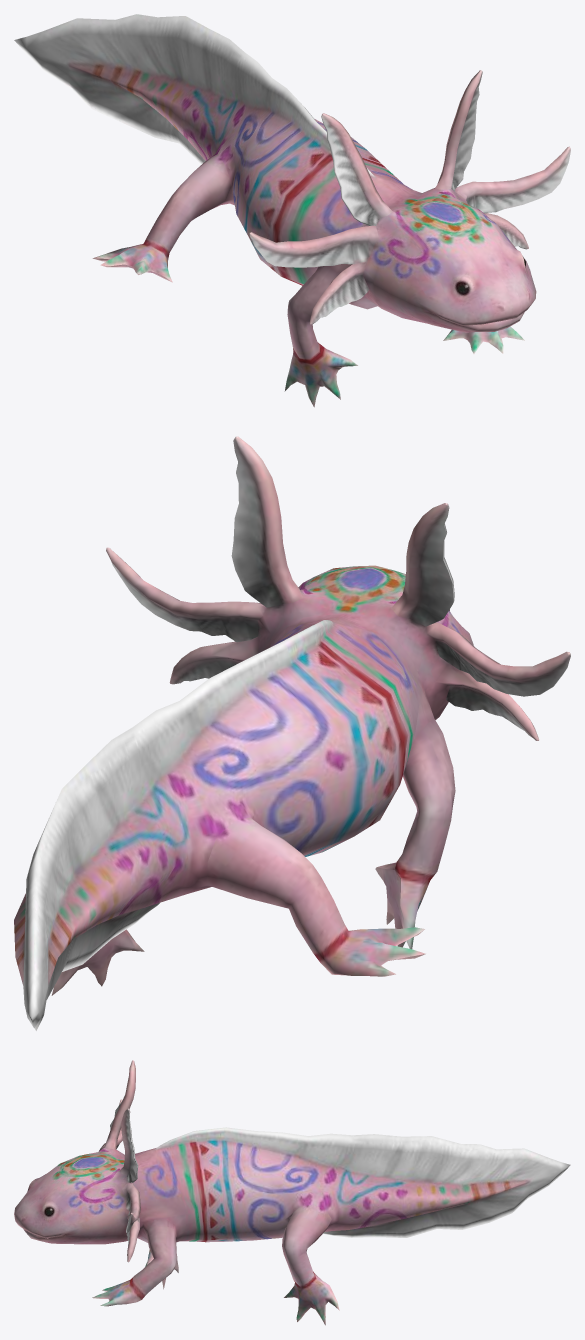
The model's file is 227-axolotl.glb.
3 views of the same model, one above another, from view 1: azimuth 30°, elevation 25°; view 2: azimuth 150°, elevation 25°; view 3: azimuth 270°, elevation 25° (orthographic). The views are drawn at different scales.
Size of the model in its own units: 4.23 by 3.7 by 8.07.
1 material, 1 textured.
